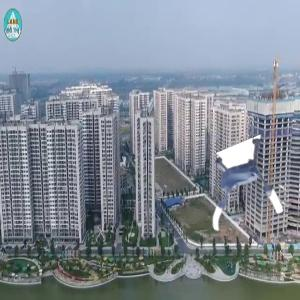drone: (197, 148, 284, 235)
